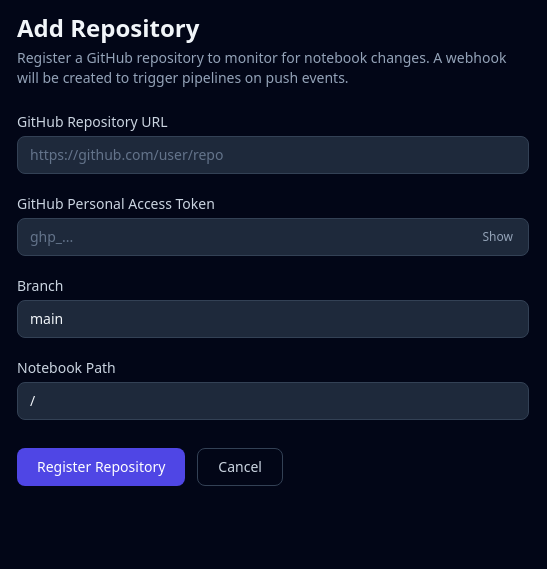
Test case: AddRepository › shows error message when API returns error
Step 1. Type "https://github.com/testuser/errorrepo" into the field labelled "GitHub Repository URL" → [273, 155], box x1=17 y1=136 x2=529 y2=174
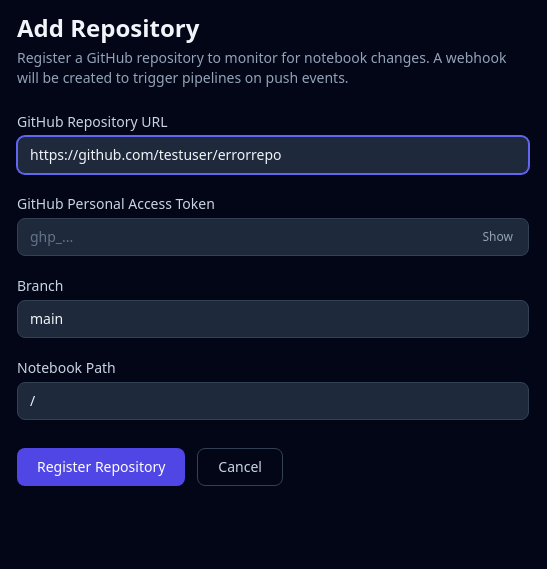
Step 2. Type "ghp_test1234567890" into the password field labelled "GitHub Personal Access Token" → [273, 237], box x1=17 y1=218 x2=529 y2=256
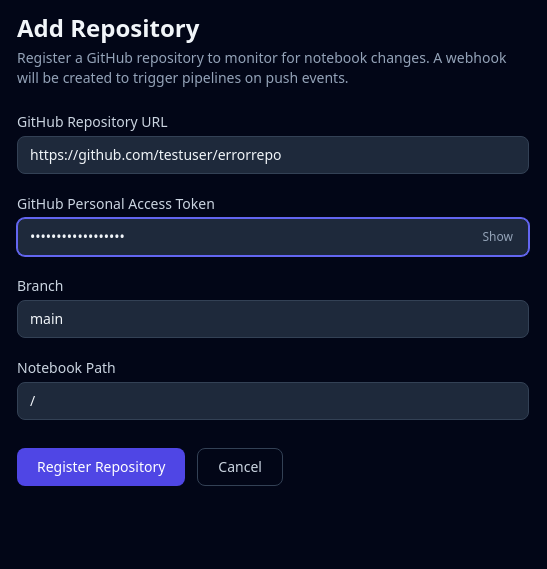
Step 3. Click the button "Register Repository" → [101, 467], box x1=17 y1=448 x2=185 y2=486
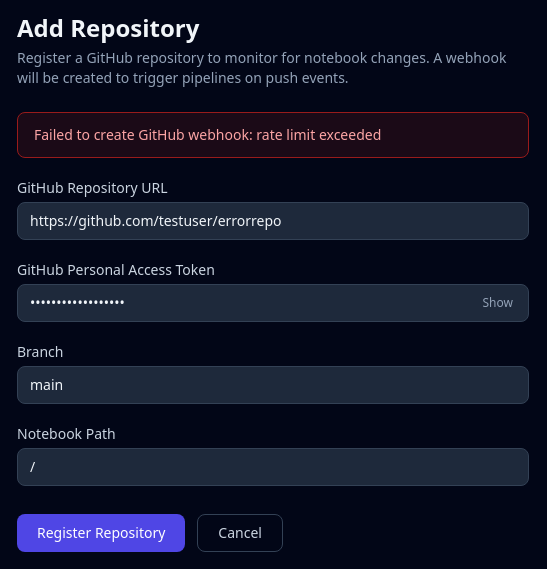
Now the text "Failed to create GitHub webhook: rate limit exceeded" is shown, box x1=17 y1=112 x2=529 y2=158
